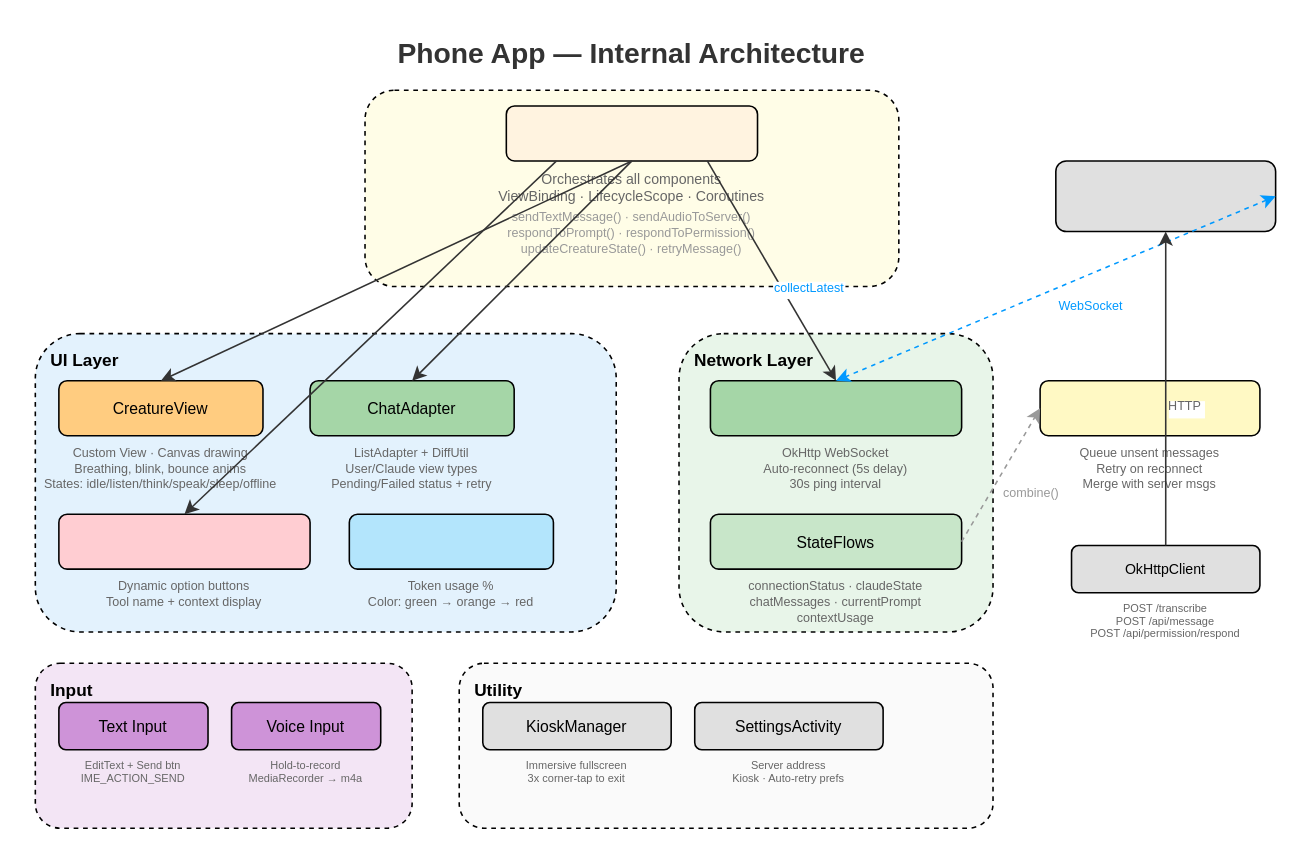
Image size: 1303x856. Some labels were removed from this diagram. The shapes that lost their labels are listed below. From the top down, each one's centre as x and y in pixels, then its label:
At point (631, 132): "MainActivity".
At point (1165, 195): "Server HTTP :5566 / WS :5567".
At point (835, 407): "WebSocketClient".
At point (1149, 407): "Pending Messages MutableStateFlow".
At point (183, 541): "Prompt / Permission UI".
At point (450, 541): "Context Bar".
